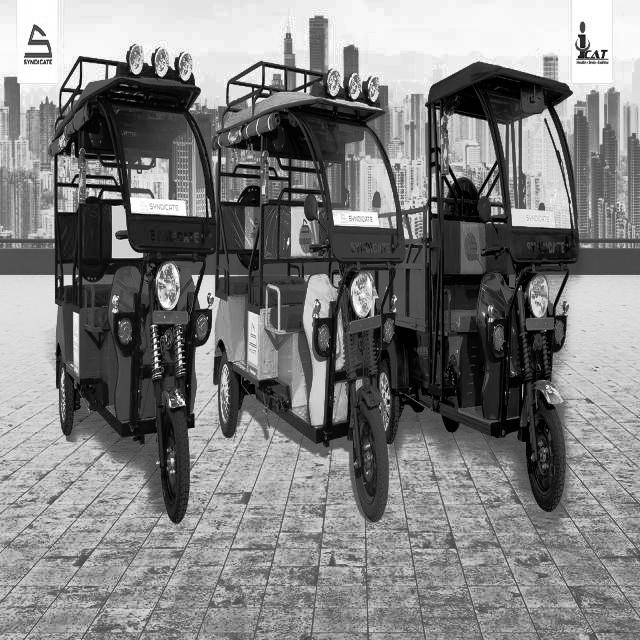Toto: (47, 68, 220, 514), (215, 95, 397, 513), (430, 69, 571, 529)
